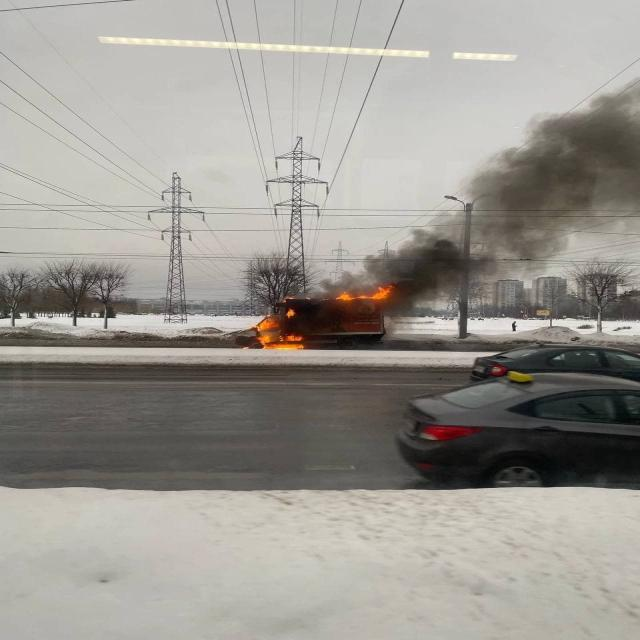Fire: (253, 308, 304, 349), (338, 285, 390, 301)
Smoke: (327, 86, 640, 319)
